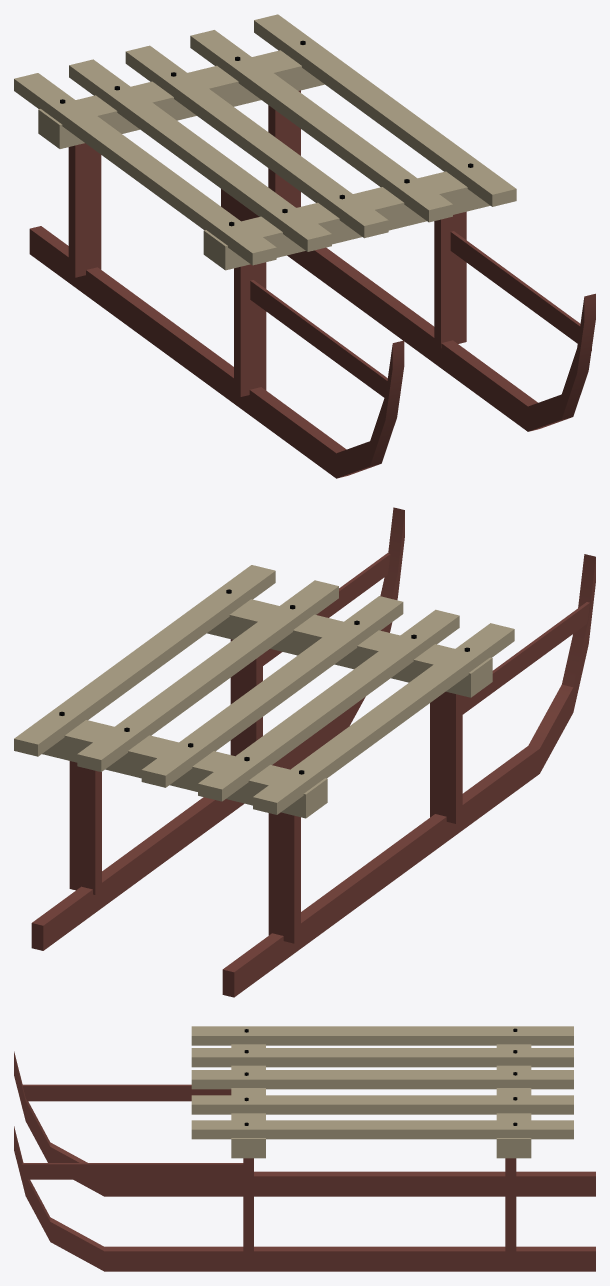
Rendered from slit.fbx.
3 renders of one model, top to bottom at view 1: azimuth 30°, elevation 25°; view 2: azimuth 150°, elevation 25°; view 3: azimuth 270°, elevation 25°, orthographic. The views are drawn at different scales.
Parts seen in each view (by area): view 1: pCube15; view 2: pCube15; view 3: pCube15.
Boxes of the visible parts, <box> form: pCube15: <box>14,14,595,478</box>; pCube15: <box>14,507,595,997</box>; pCube15: <box>14,1026,595,1271</box>.
Size of the model in its own units: 1.07 by 0.7399 by 2.5.
